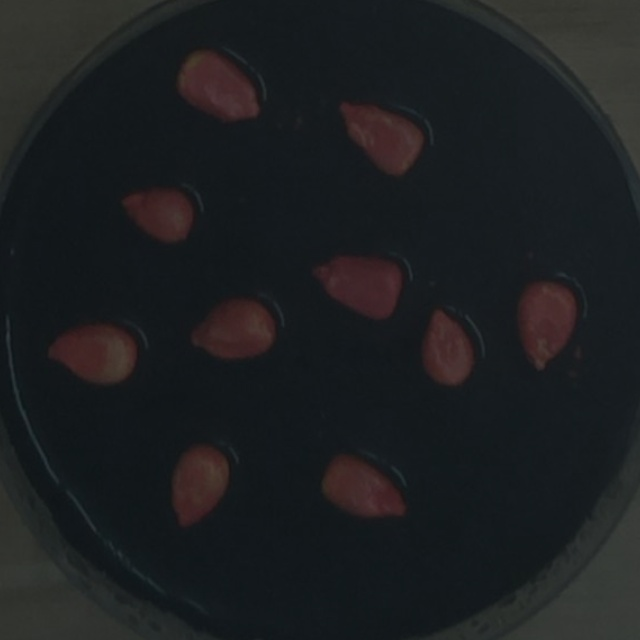Zea mays: (328, 91, 432, 183), (303, 244, 412, 330), (165, 39, 269, 128), (36, 314, 145, 394), (507, 272, 586, 380), (312, 447, 414, 529), (182, 287, 284, 368), (162, 436, 235, 535), (412, 298, 483, 395), (111, 178, 201, 252)
